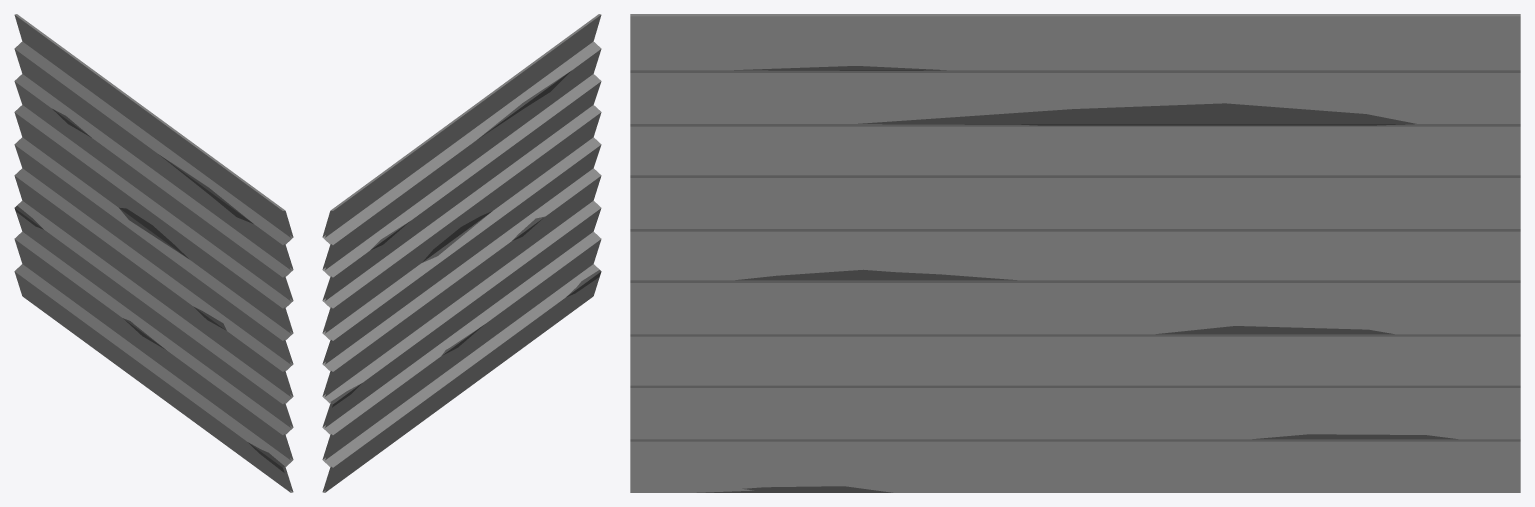
File: builder_6.FBX
The picture shows the model from 3 angles, left to right: view 1: azimuth 30°, elevation 25°; view 2: azimuth 150°, elevation 25°; view 3: azimuth 270°, elevation 25°; orthographic projection. The views are drawn at different scales.
Visible parts, largest first — view 1: builder_6; view 2: builder_6; view 3: builder_6.
Boxes of the visible parts, x1,y1,x2,y2 form: builder_6: (14, 14, 293, 492); builder_6: (322, 14, 601, 492); builder_6: (630, 14, 1520, 492).
Size of the model in its own units: 2.79 by 71.88 by 123.
